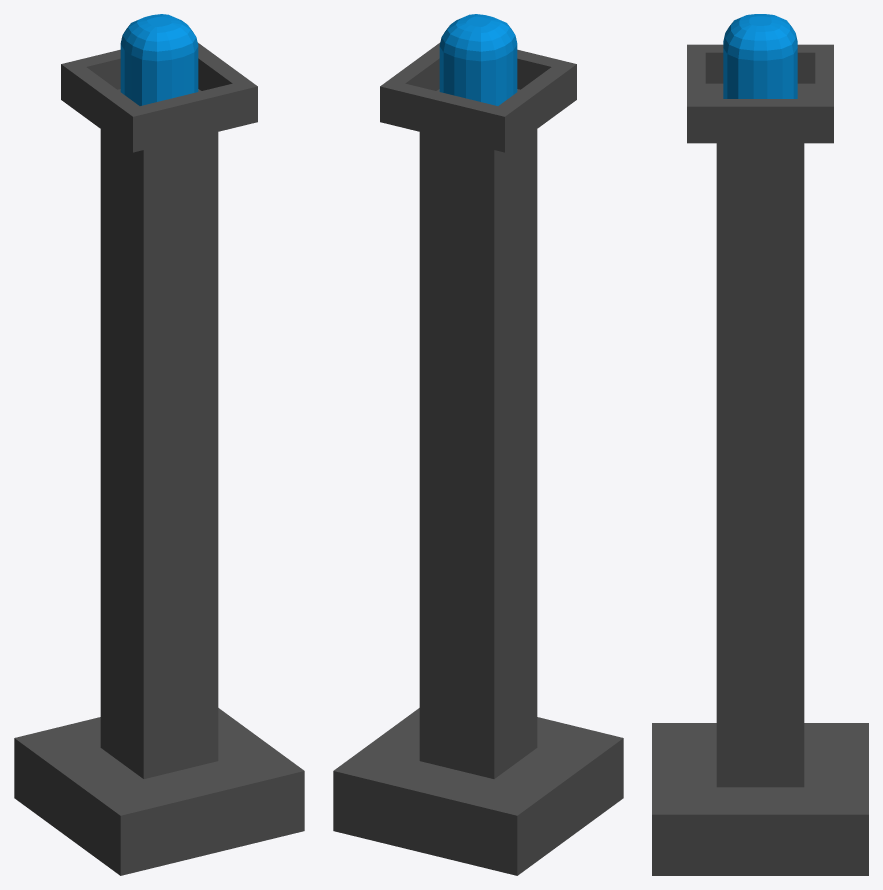
File: LampTower2.fbx
The picture shows the model from 3 angles, left to right: view 1: azimuth 30°, elevation 25°; view 2: azimuth 150°, elevation 25°; view 3: azimuth 270°, elevation 25°; orthographic projection. The views are drawn at different scales.
Visible parts, largest first — view 1: Cube.009; view 2: Cube.009; view 3: Cube.009.
Boxes of the visible parts, box(x1,y1,x2,y2) form: Cube.009: box(14, 14, 304, 875); Cube.009: box(333, 14, 623, 875); Cube.009: box(652, 14, 868, 875).
Size of the model in its own units: 200 by 823 by 200.
